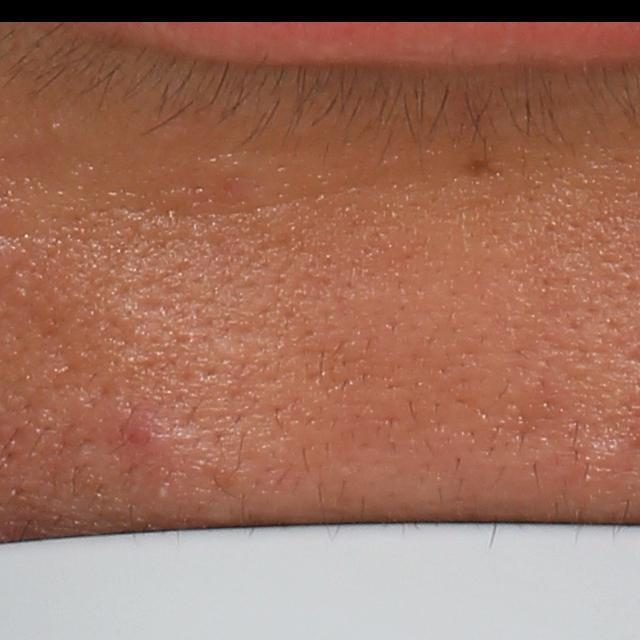papule: (116, 407, 161, 453)
